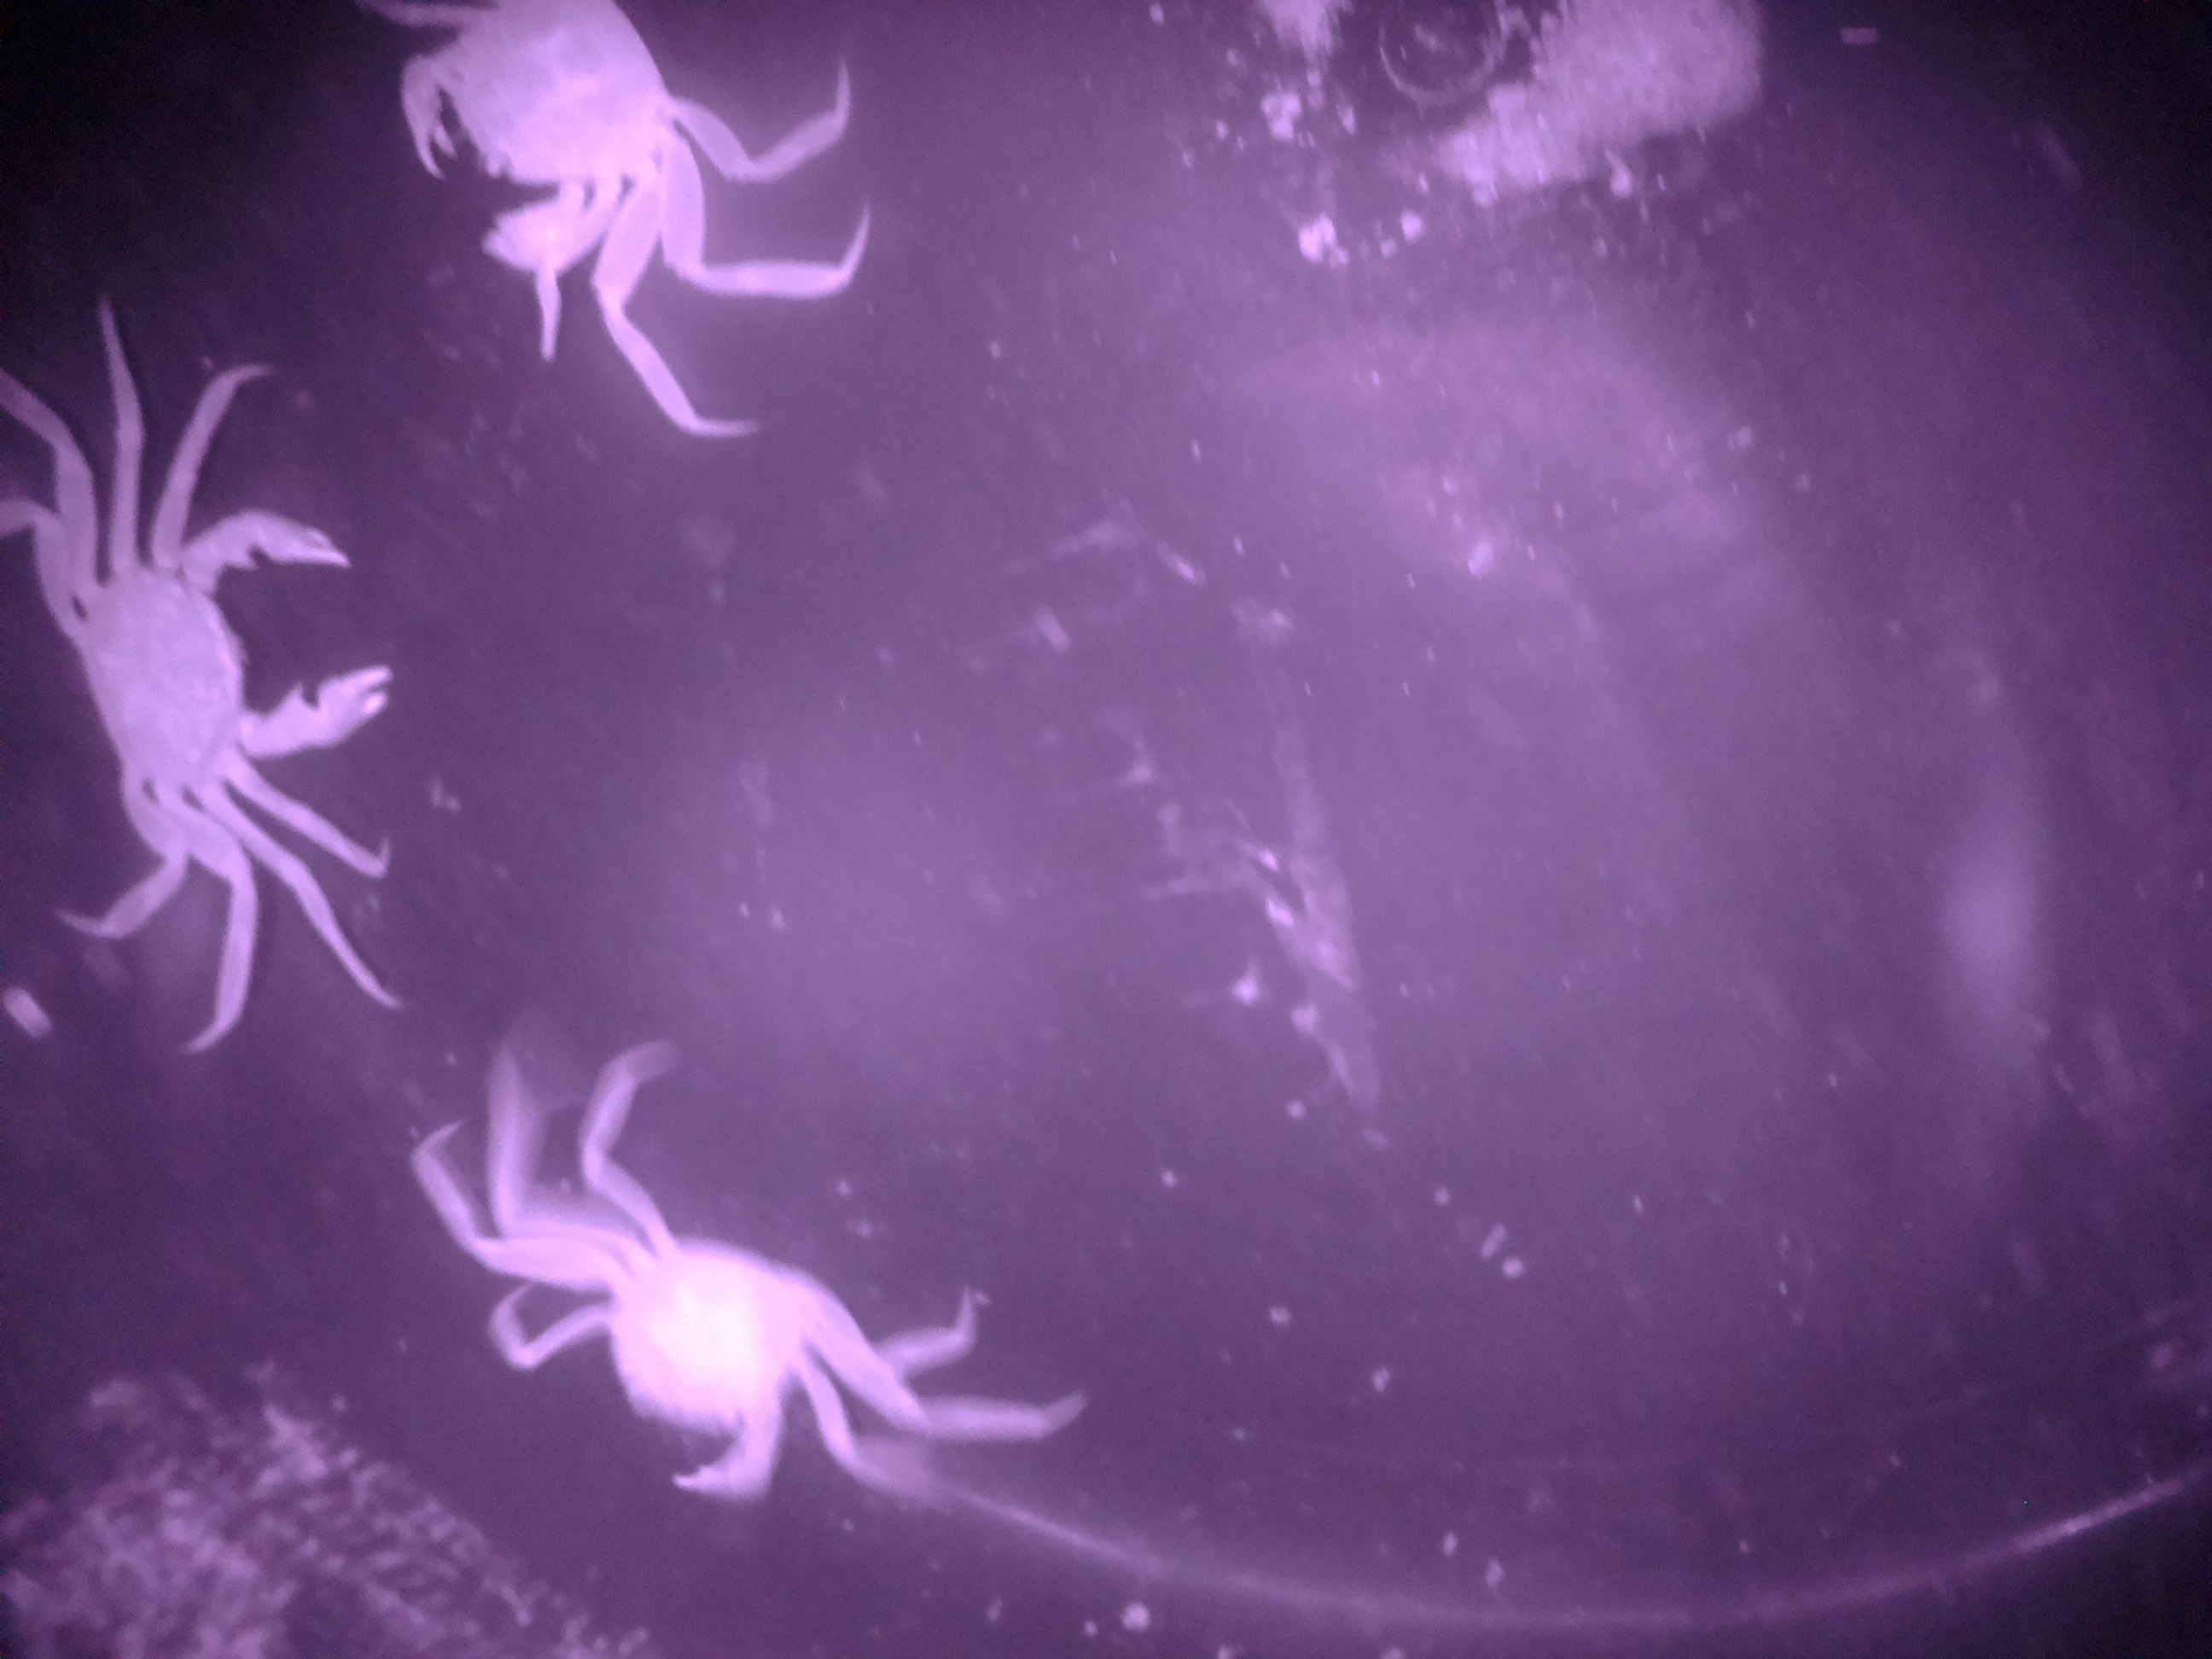Crab: (383, 1115, 925, 1537), (2, 490, 469, 861)
